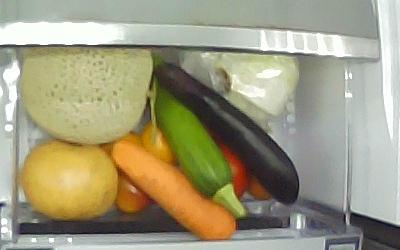cabbage: (177, 48, 300, 123)
carrot: (109, 138, 236, 240), (21, 138, 118, 220)
eggplant: (150, 51, 299, 205)
melon: (20, 46, 153, 144)
prune: (113, 168, 151, 213), (140, 119, 177, 164)
tomato: (217, 141, 246, 198)
zucchini: (150, 52, 247, 218)
